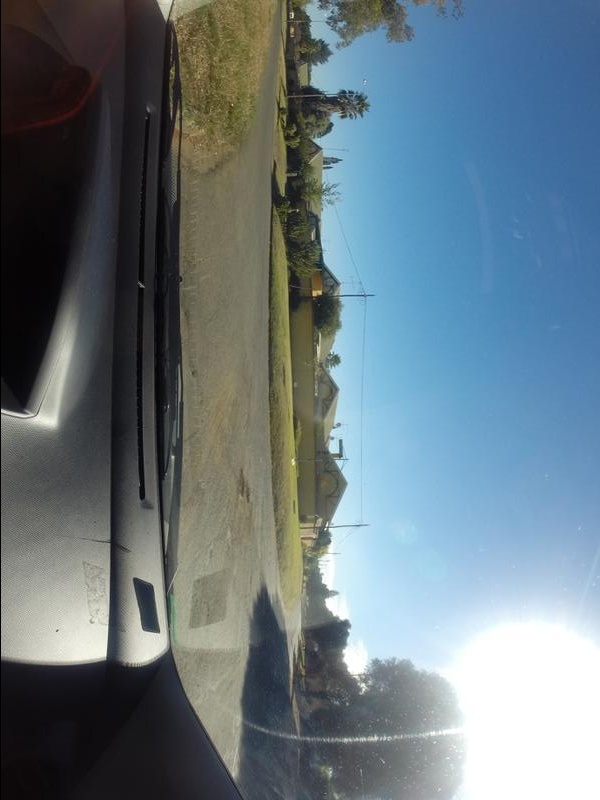pothole: (221, 463, 267, 516)
